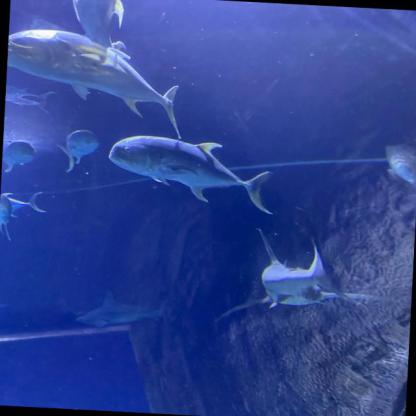fish: (4, 28, 188, 140), (105, 133, 278, 215), (71, 0, 127, 51), (54, 129, 102, 175), (382, 144, 416, 197), (5, 84, 55, 114), (0, 191, 48, 220), (2, 139, 37, 174), (0, 194, 16, 244)
shark: (213, 226, 391, 334), (74, 289, 171, 332)
